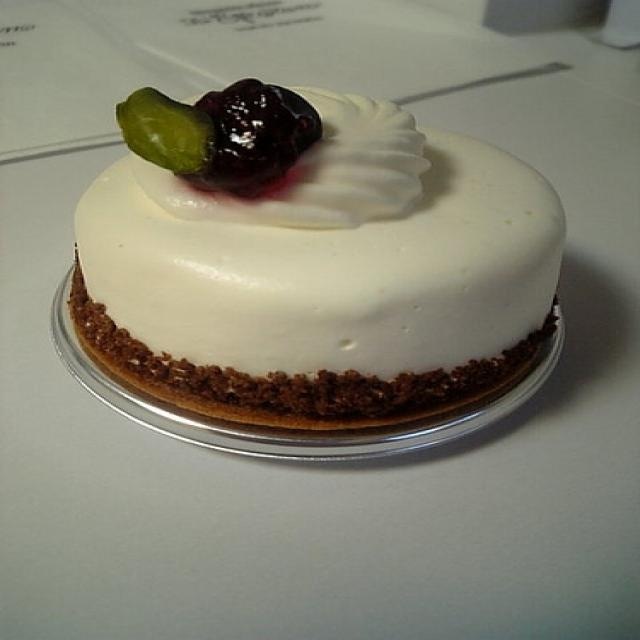Rare cheese cake: (27, 54, 599, 492)
